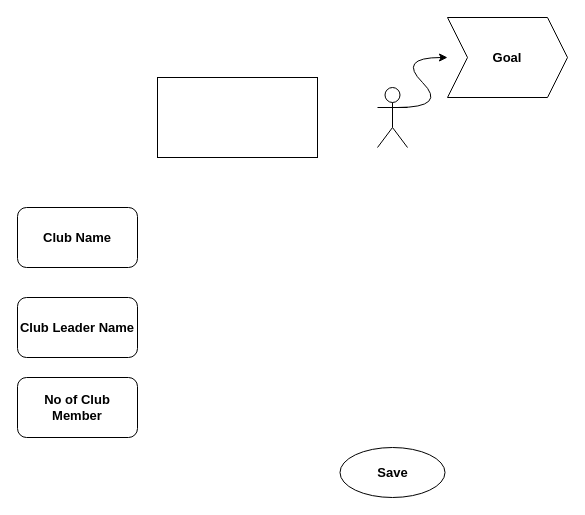
The diagram is 585 pixels wide and 515 high, and some of its shapes have lost their labels. Each missing label, with the box of its shape:
Actor: (376, 86, 408, 148)
Club Activity: (156, 76, 318, 158)
